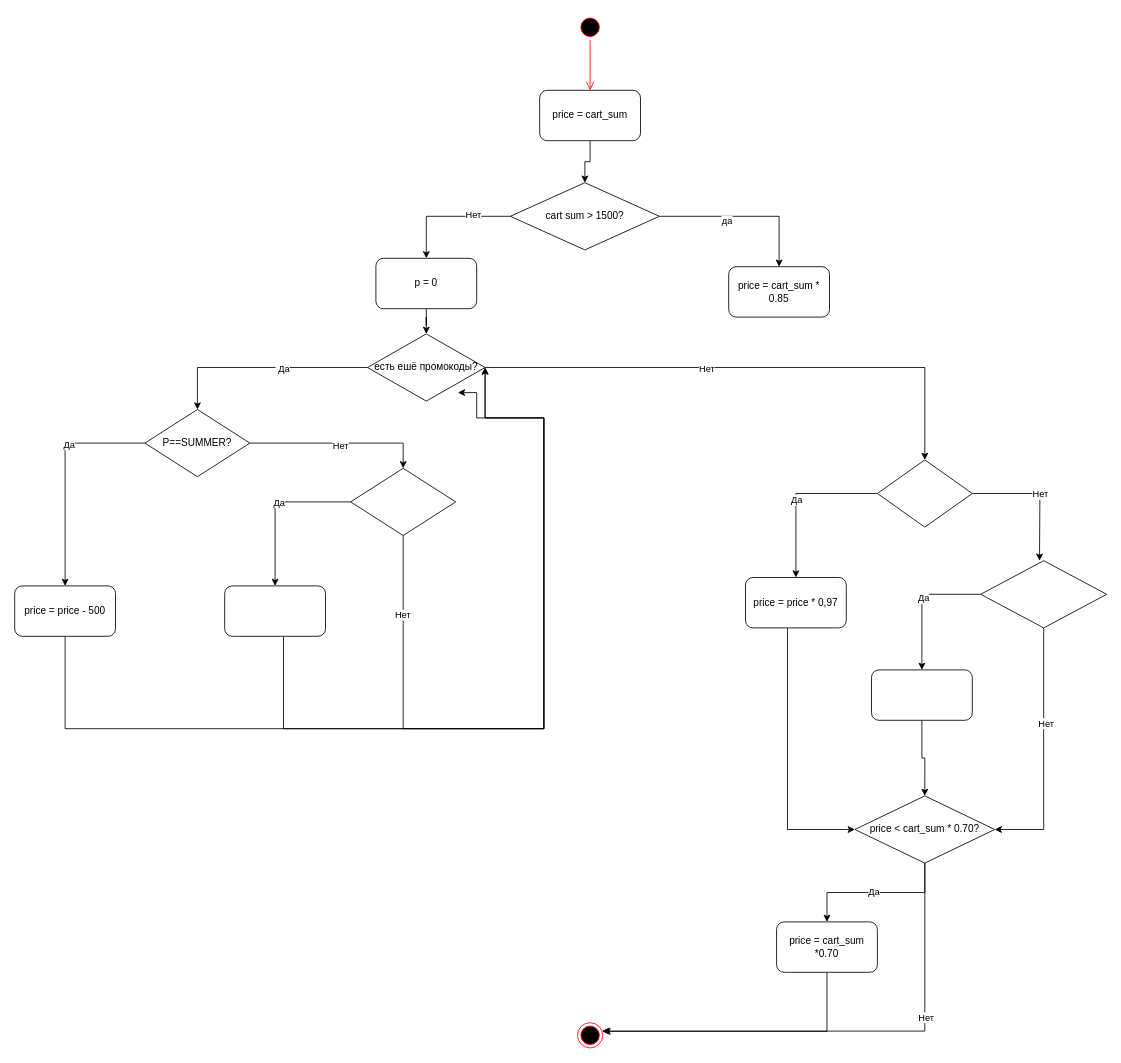
This 1121x1063 diagram has some shape labels left out. Each missing label, with the centre of its shape:
p == VIP?: [403,501]
price = price * 0,93: [921,694]
price = price * 0.90: [275,610]
tier ==1?: [924,493]
tier ==2?: [1043,594]
